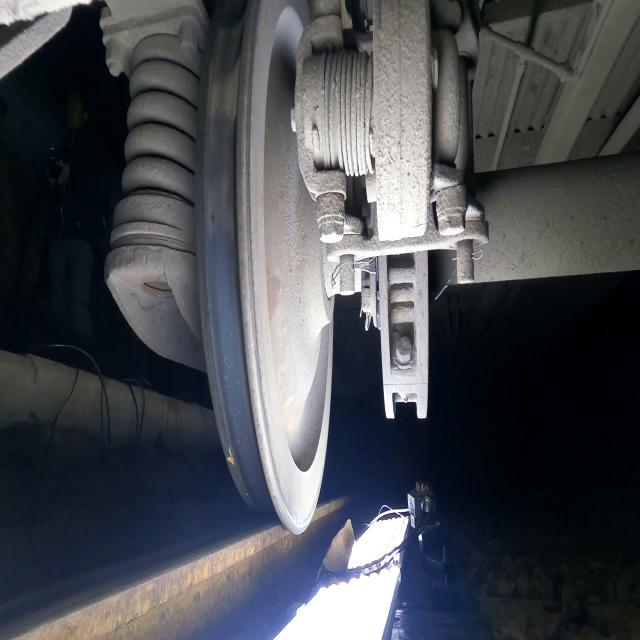Cracks-Scratches: (226, 446, 236, 466)
Shelling: (204, 12, 246, 235)
Wheel: (195, 0, 334, 534)
